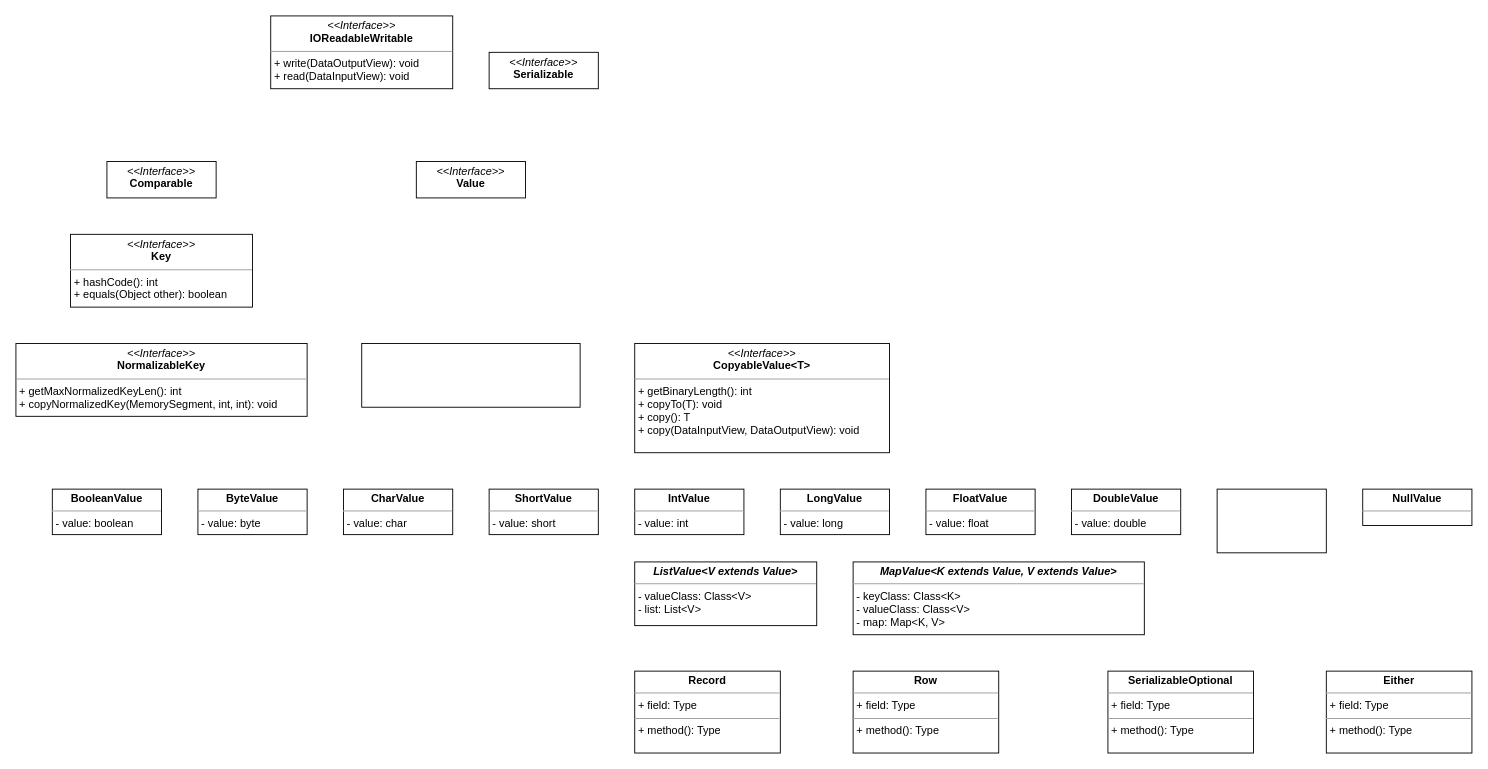
The diagram is 1488 pixels wide and 769 high, and some of its shapes have lost their labels. Here are the shapes that lost their labels. From the top down, the centre of each, then its label:
the point at 470,375: <<Interface>> ResettableValue <T extends Value> + setValue(T): void
the point at 1271,520: StringValue - value: char[] - len: int
